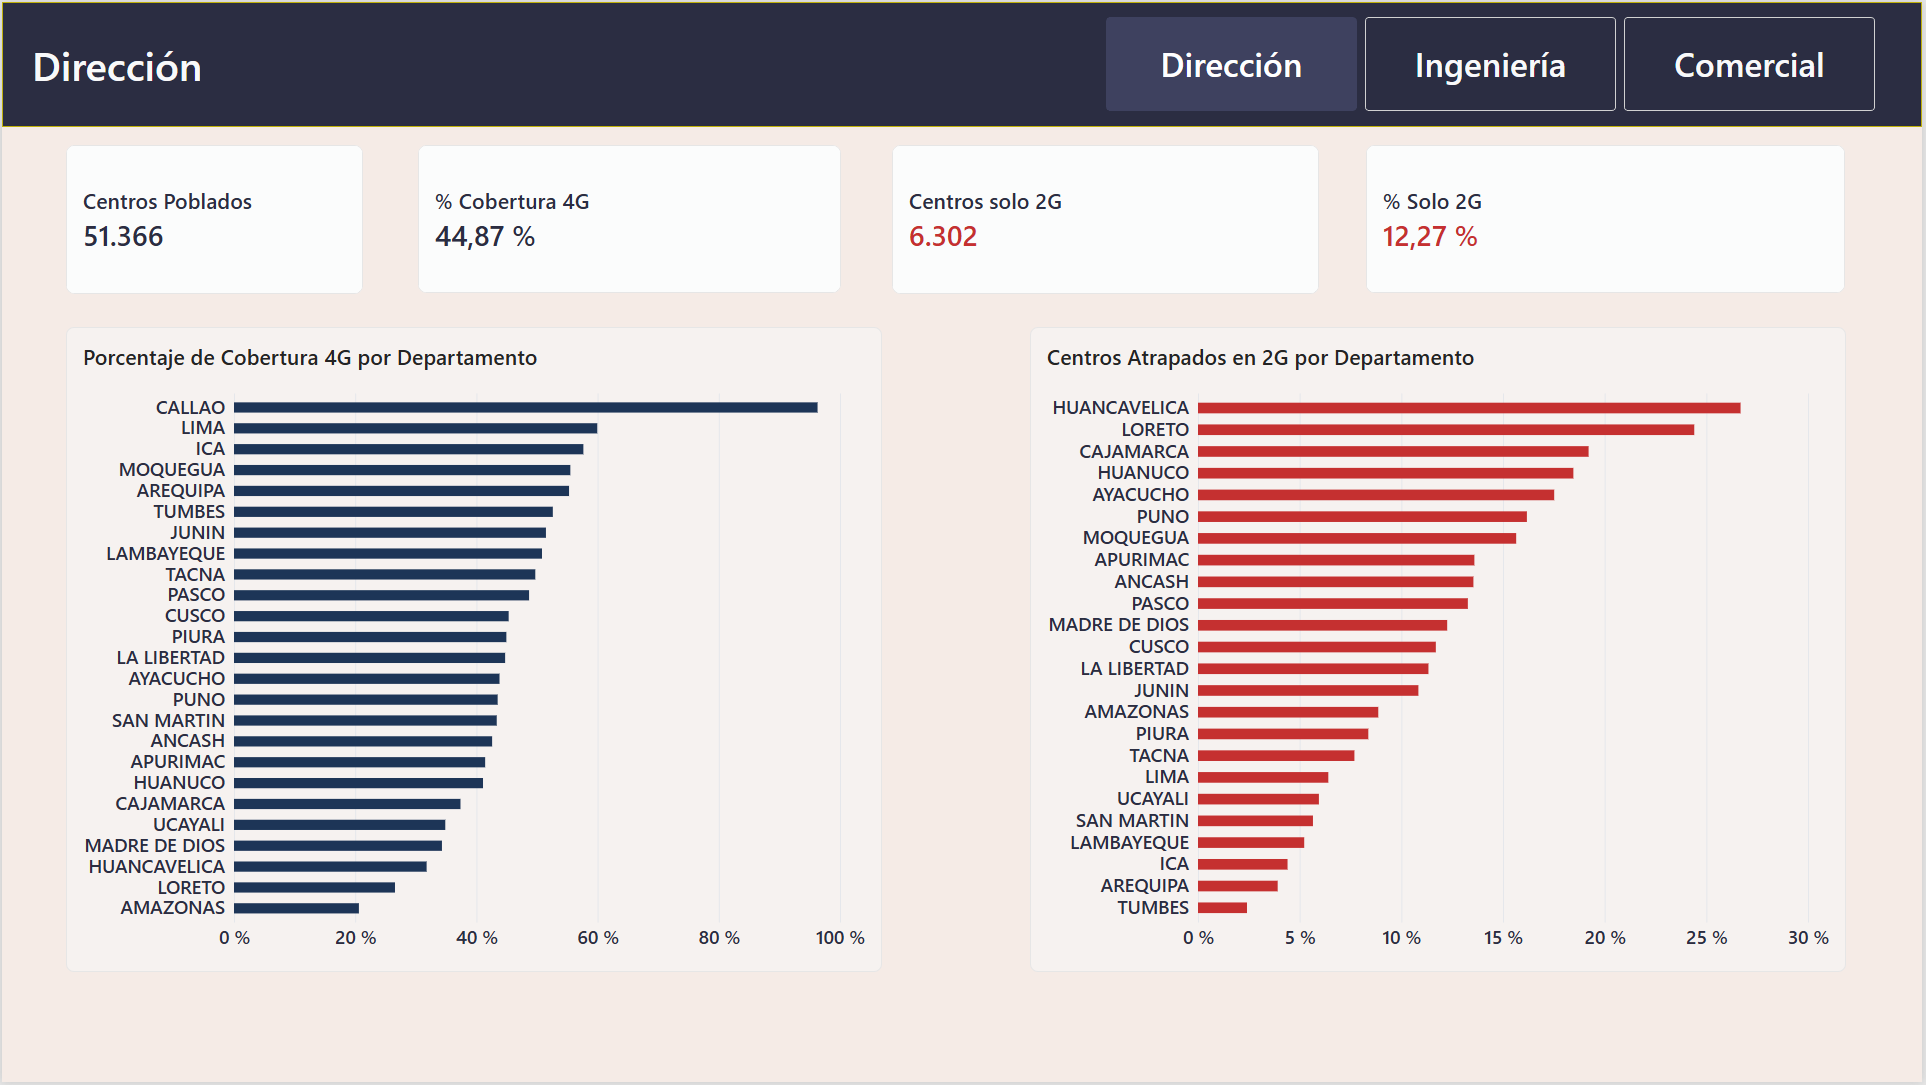

Layout of this report page (visuals, bound fields, positions):
{"tool":"powerbi","page":{"name":"Dirección","canvas":[1920,1080],"ordinal":0},"visuals":[{"type":"cardVisual","title":"Total de Centros Poblados","fields":{"Data":["_Medidas.Total Centros Poblados"]},"box":[64.3,142.9,296.4,149],"z":0},{"type":"cardVisual","fields":{"Data":["_Medidas.% Solo 2G"]},"box":[1364.3,142.9,478.6,148.6],"z":1000},{"type":"barChart","title":"Porcentaje de Cobertura 4G por Departamento","fields":{"Category":["cobertura_movil.departamento"],"Y":["_Medidas.% Cobertura 4G"]},"box":[63.8,325.3,816.3,644.6],"z":2000},{"type":"barChart","title":"Centros Atrapados en 2G por Departamento","fields":{"Category":["cobertura_movil.departamento"],"Y":["_Medidas.% Solo 2G"]},"box":[1027.6,325.3,816.3,644.6],"z":3000},{"type":"textbox","box":[0,0,13.7,120.1],"z":4000},{"type":"shape","box":[0,0,1920,124.8],"z":5000},{"type":"cardVisual","fields":{"Data":["_Medidas.Centros solo 2G"]},"box":[890,142.9,427.2,149],"z":6000},{"type":"cardVisual","fields":{"Data":["_Medidas.% Cobertura 4G"]},"box":[415.7,142.9,422.9,148.6],"z":7000},{"type":"pageNavigator","box":[1103.9,15.1,770.7,94.2],"z":8000}]}

Visuals, with their boxes in screenshot pixels (x1, y1, x2, y2), scaled from the page's 1920x1080 canvas onto the 1926x1085 screenshot:
"Total de Centros Poblados" cardVisual: [left=65, top=144, right=362, bottom=293]
cardVisual - _Medidas.% Solo 2G: [left=1369, top=144, right=1849, bottom=293]
"Porcentaje de Cobertura 4G por Departamento" barChart: [left=64, top=327, right=883, bottom=974]
"Centros Atrapados en 2G por Departamento" barChart: [left=1031, top=327, right=1850, bottom=974]
textbox: [left=0, top=0, right=14, bottom=121]
shape: [left=0, top=0, right=1925, bottom=125]
cardVisual - _Medidas.Centros solo 2G: [left=893, top=144, right=1321, bottom=293]
cardVisual - _Medidas.% Cobertura 4G: [left=417, top=144, right=841, bottom=293]
pageNavigator: [left=1107, top=15, right=1880, bottom=110]
